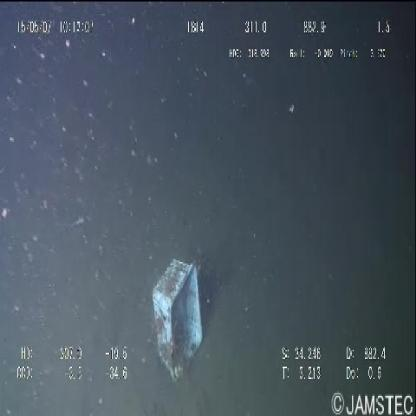Rác: (147, 253, 210, 388)
